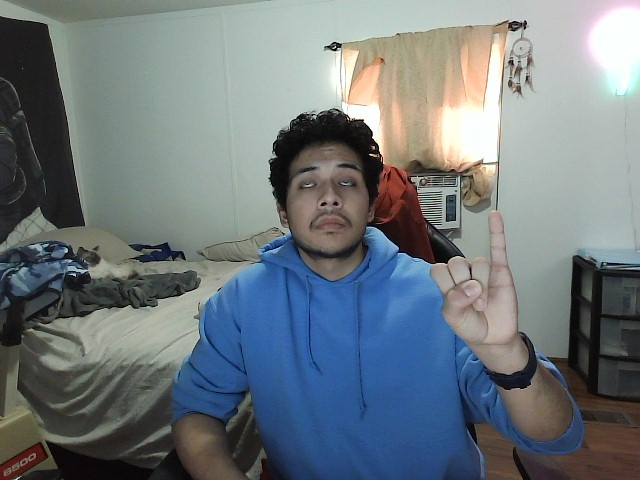I: (425, 209, 525, 347)
